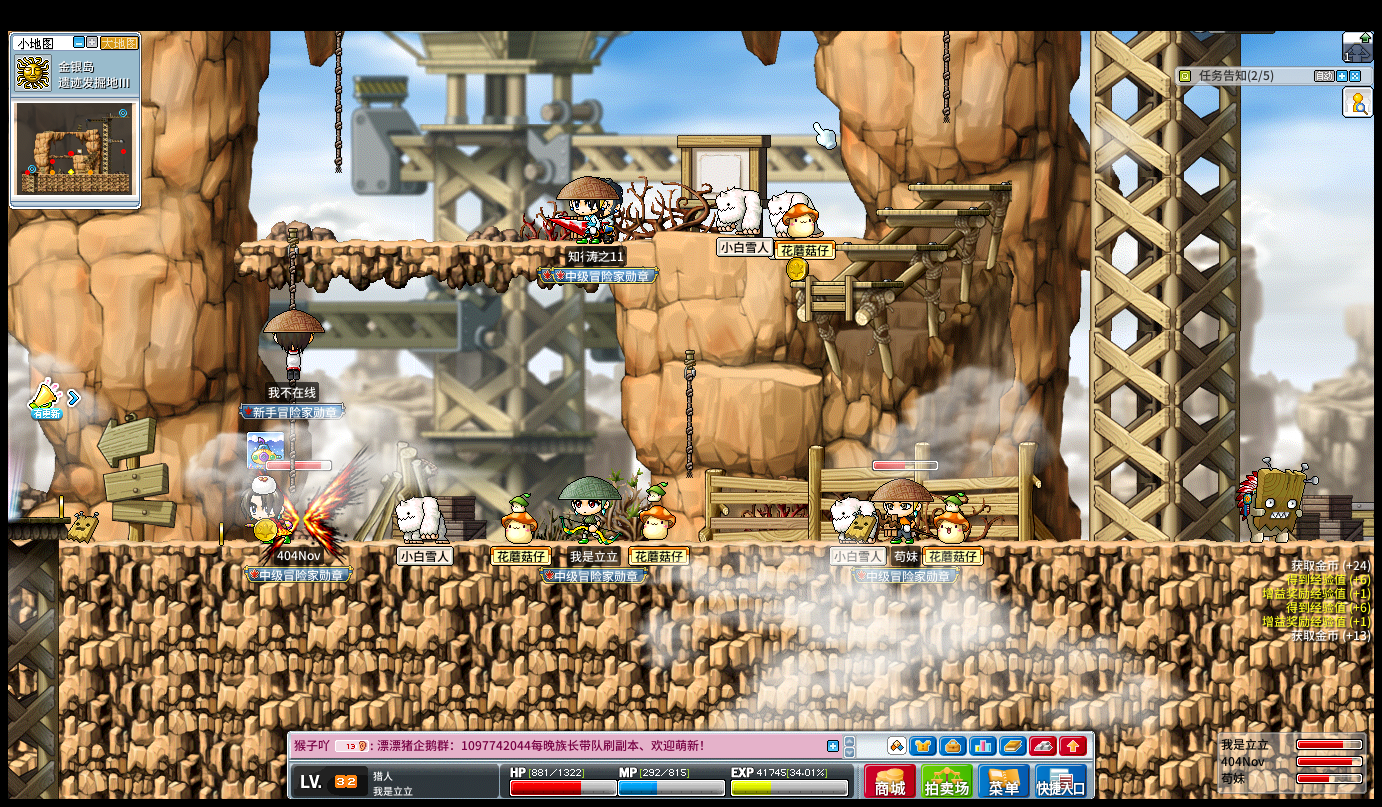floor: (236, 238, 604, 248), (714, 364, 822, 384), (785, 279, 894, 291), (784, 279, 900, 288), (872, 207, 984, 215), (836, 243, 948, 250), (908, 184, 1011, 191), (4, 515, 64, 523)
monster: (1235, 459, 1314, 541)
rope: (682, 349, 695, 480), (332, 29, 341, 172), (286, 225, 297, 310), (940, 29, 949, 120)
